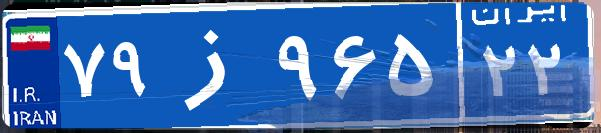2: (475, 38, 525, 113), (525, 38, 570, 115)
5: (385, 28, 445, 110)
6: (330, 28, 385, 110)
7: (57, 26, 110, 107)
9: (273, 28, 330, 110), (110, 28, 158, 105)
ز: (158, 15, 273, 115)
